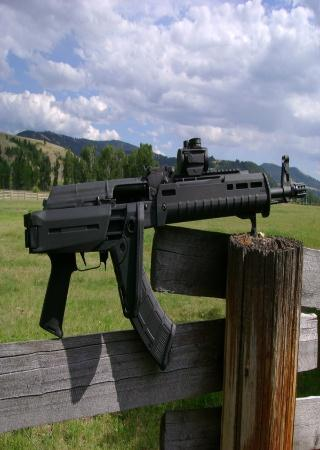weapon: (22, 137, 305, 371)
